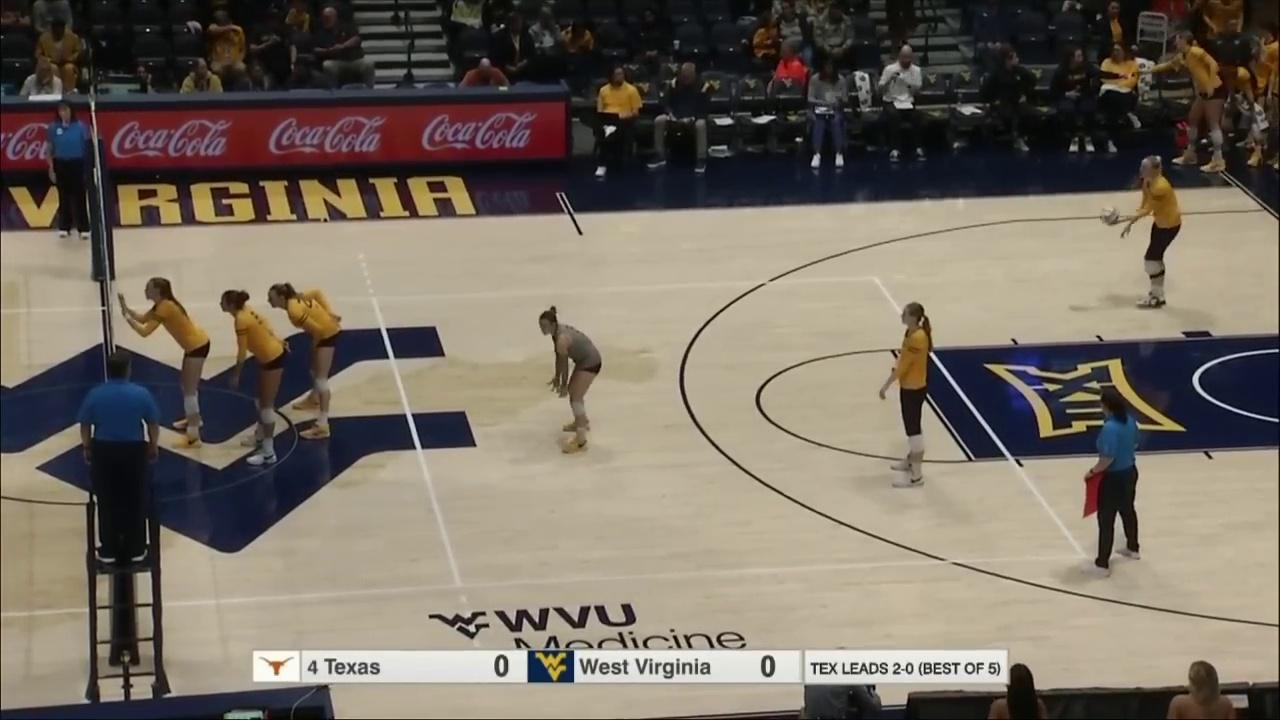player: (140, 279, 210, 451), (219, 287, 284, 467), (269, 280, 342, 438), (537, 309, 608, 456), (884, 300, 934, 490), (1104, 188, 1182, 307)
refree: (81, 350, 160, 564), (1087, 392, 1143, 574), (43, 97, 98, 242)
